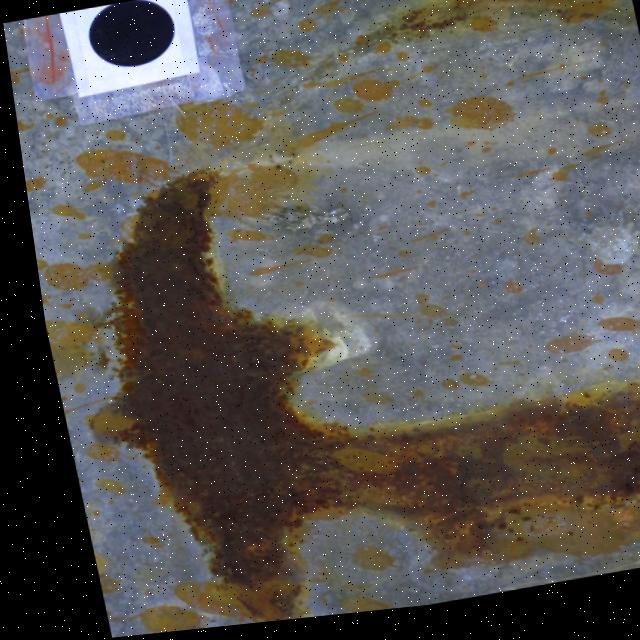corrosion: (53, 103, 640, 637)
